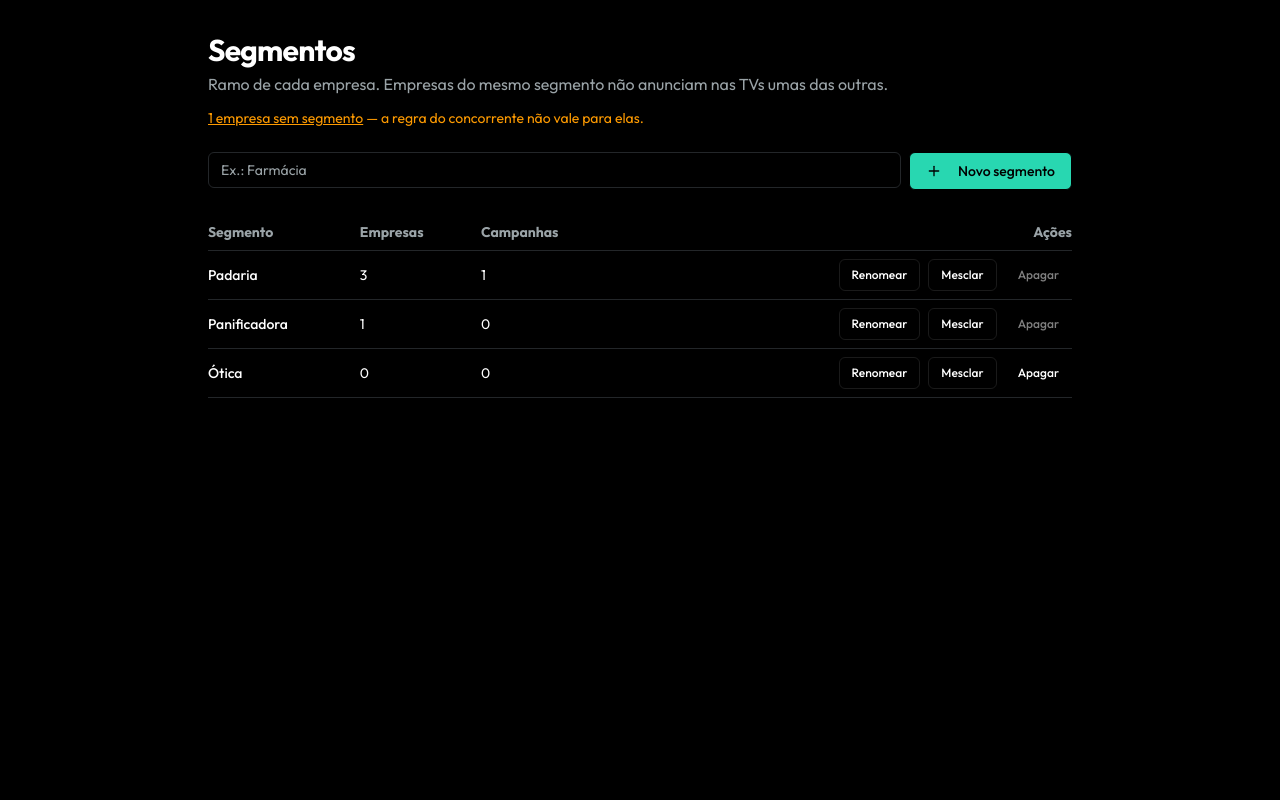
Scenario: Segments › mostra o 409 do renomear
Expected: the text "Panificadora" is shown, [208,300,360,348]
Click the button "Renomear" in the row of "Panificadora": click(879, 324) [838,308,920,340]
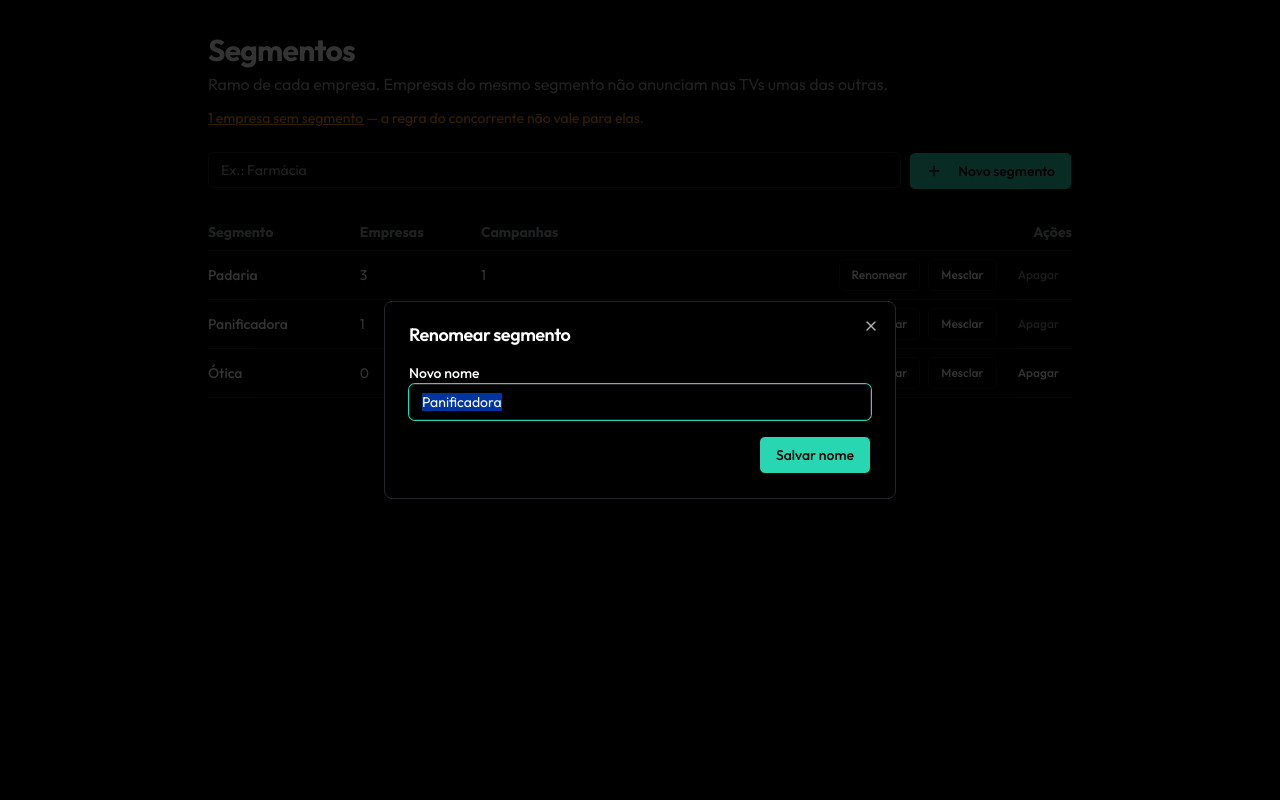
Replace the text in the field labelled "Novo nome" with "padaria": (640, 402) [409,384,871,420]
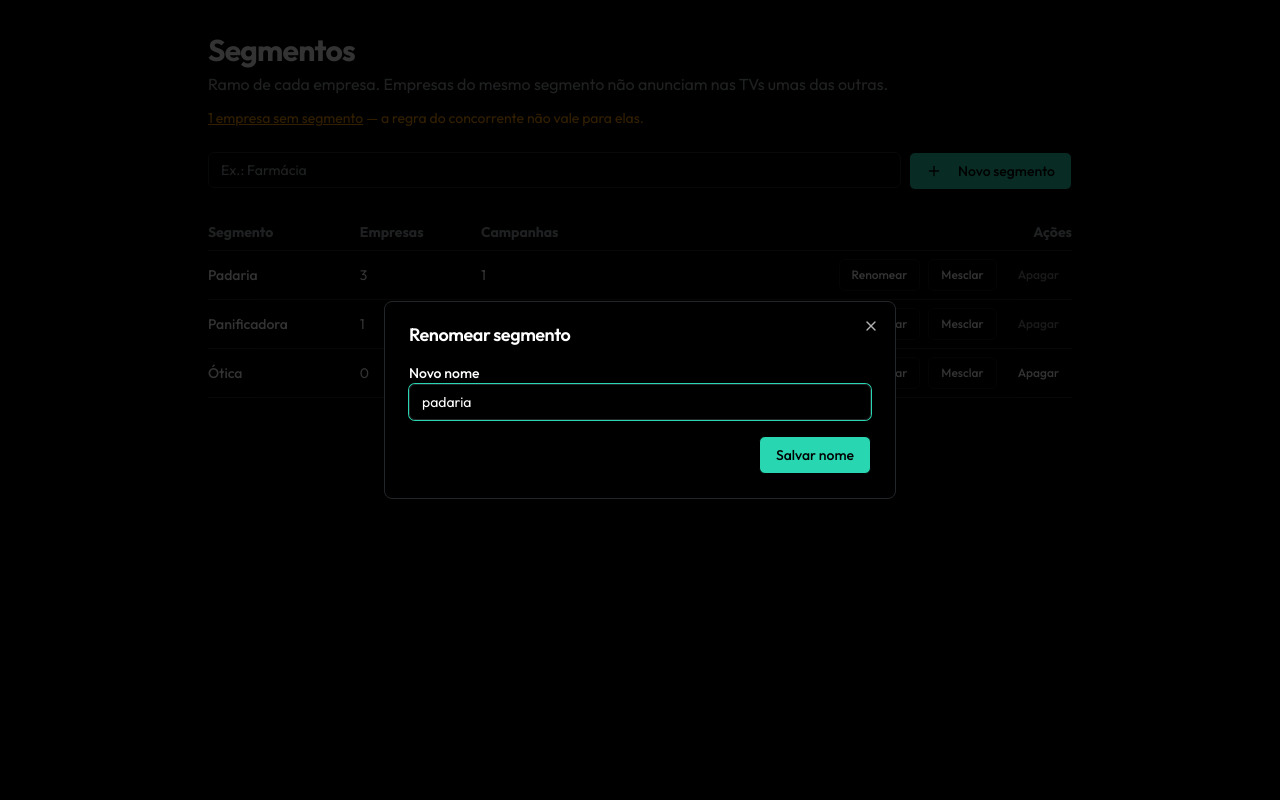
Click the button "Salvar nome": click(815, 455) [759,436,871,474]
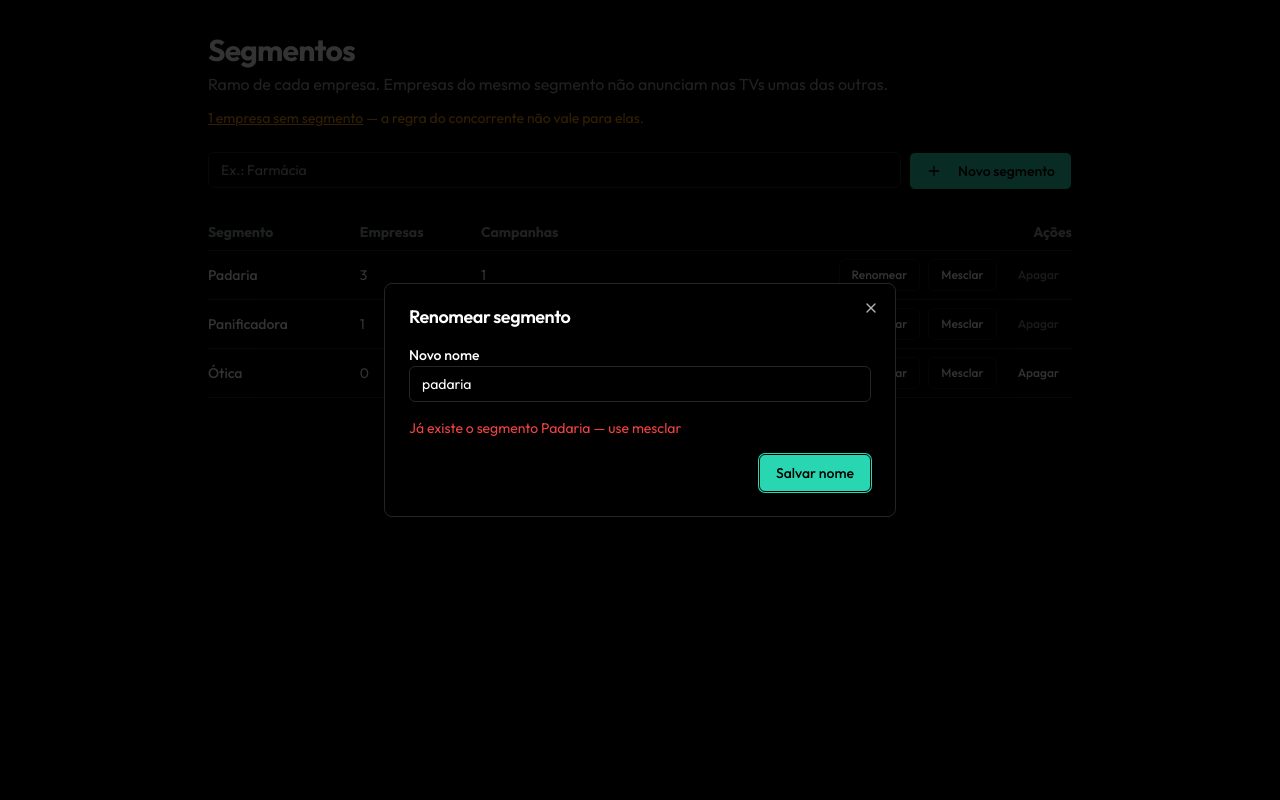
Now the text "Já existe o segmento Padaria — use mesclar" is shown, box [409,419,681,437]
